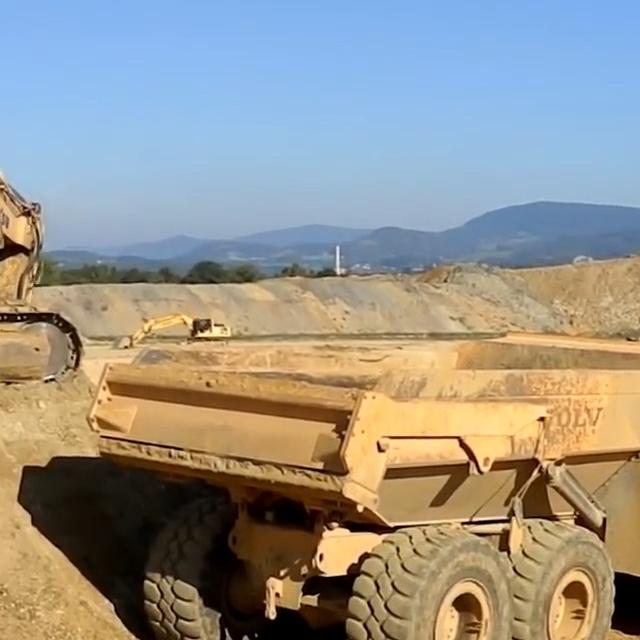Excavator: (123, 312, 230, 342)
dump truck: (84, 332, 640, 640)
